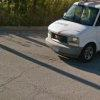Car: (44, 2, 100, 65)
